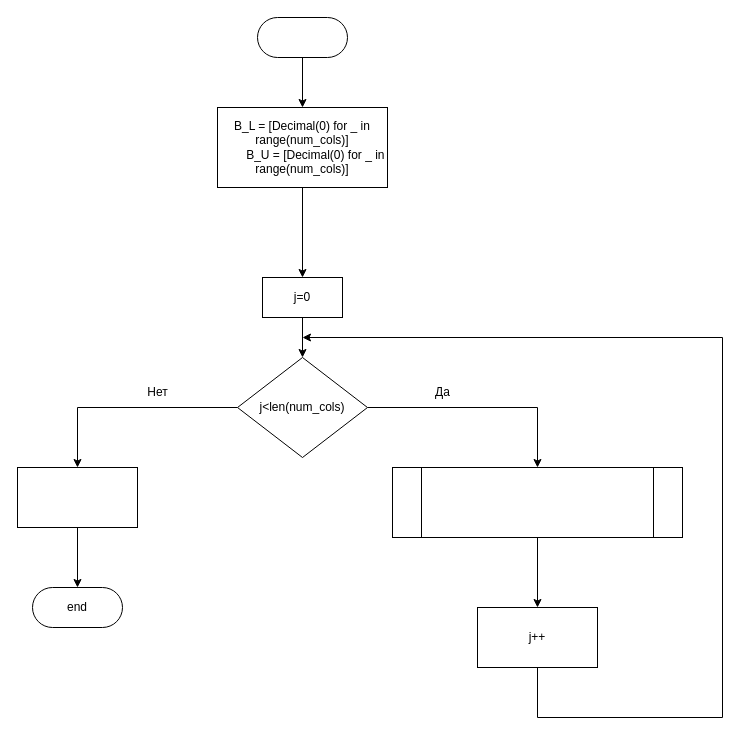
Image size: 748x743. Some labels were removed from this diagram. Here are the shapes that lost their labels. From the top down, the centre of each, then its label:
point 302,37: begin
point 77,497: return B_L, B_U
point 537,502: B_L[j], B_U[j] = self._compute_bounds_for_column(L_vec, U_vec, R, num_rows, j)
